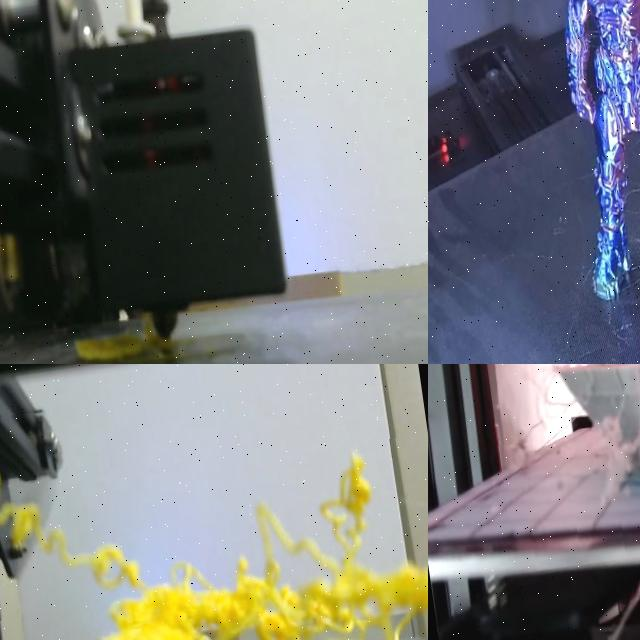spaghetti: (0, 453, 428, 640), (471, 364, 640, 573), (75, 315, 174, 363)
